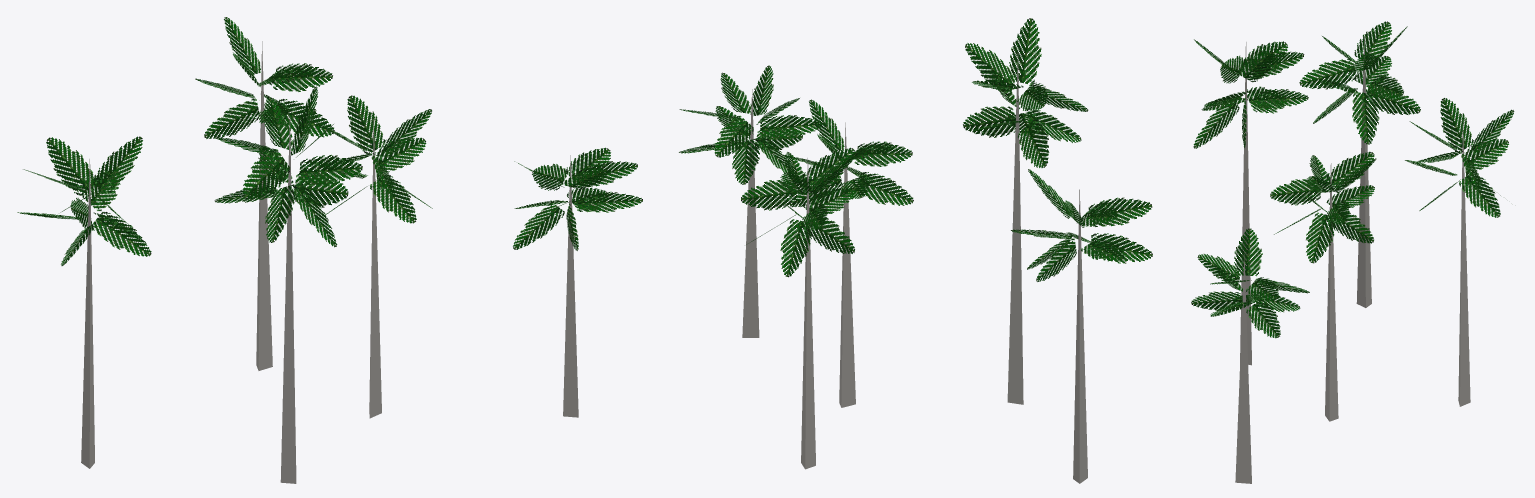
File: uvmd-0032.glb
3 renders of one model, left to right at view 1: azimuth 30°, elevation 25°; view 2: azimuth 150°, elevation 25°; view 3: azimuth 270°, elevation 25°, orthographic. The views are drawn at different scales.
Parts seen in each view (by area): view 1: uvmd-0032; view 2: uvmd-0032; view 3: uvmd-0032.
Part boxes in pixels (x1=…): uvmd-0032: x1=17, y1=17, x2=642, y2=483; uvmd-0032: x1=679, y1=18, x2=1152, y2=483; uvmd-0032: x1=1191, y1=21, x2=1514, y2=483.
Bounding box in the file's own units: 361 × 245 × 221.
2 materials, 2 textured.
